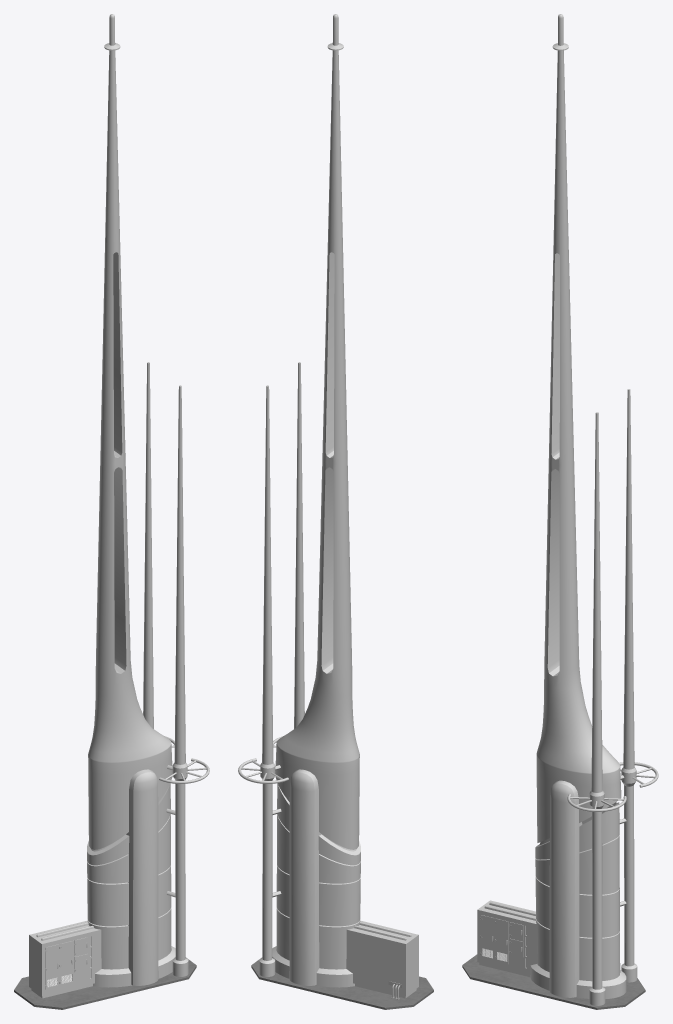
The model's file is KB3D_NSF_PropAntenna_B.fbx.
3 renders of one model, left to right at view 1: azimuth 30°, elevation 25°; view 2: azimuth 150°, elevation 25°; view 3: azimuth 330°, elevation 25°, orthographic.
Parts seen in each view (by area): view 1: KB3D_NSF_PropAntenna_B_Main; view 2: KB3D_NSF_PropAntenna_B_Main; view 3: KB3D_NSF_PropAntenna_B_Main.
Boxes of the visible parts, <box> form: KB3D_NSF_PropAntenna_B_Main: <box>14,14,209,1009</box>; KB3D_NSF_PropAntenna_B_Main: <box>238,14,433,1009</box>; KB3D_NSF_PropAntenna_B_Main: <box>462,14,658,1009</box>.
Bounding box in the file's own units: 629 × 3492 × 404.
